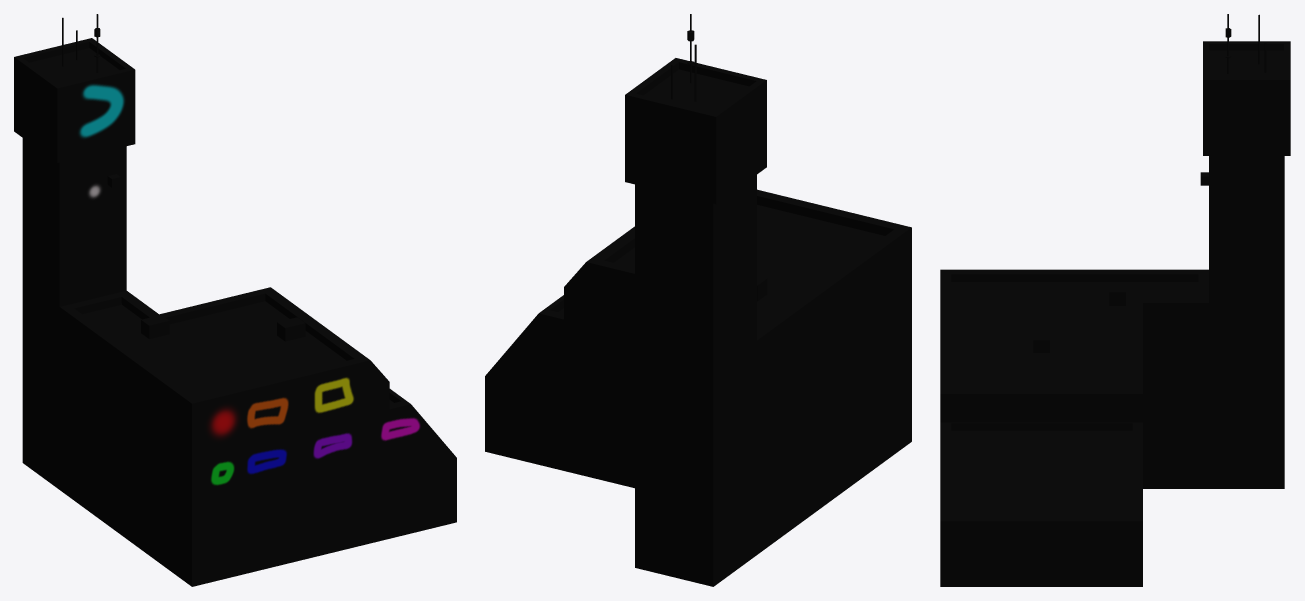
Rendered from MainBuilding.fbx.
3 views of the same model, side by side, from view 1: azimuth 30°, elevation 25°; view 2: azimuth 150°, elevation 25°; view 3: azimuth 270°, elevation 25° (orthographic). The views are drawn at different scales.
Parts seen in each view (by area): view 1: MainBuildingOneObj; view 2: MainBuildingOneObj; view 3: MainBuildingOneObj.
Boxes of the visible parts, x1,y1,x2,y2 form: MainBuildingOneObj: (14, 14, 456, 586); MainBuildingOneObj: (485, 14, 911, 586); MainBuildingOneObj: (940, 14, 1290, 586).
Bounding box in the file's own units: 3808 × 6161 × 4212.
